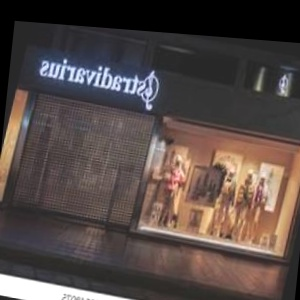stradivarius: (161, 44, 187, 68)
